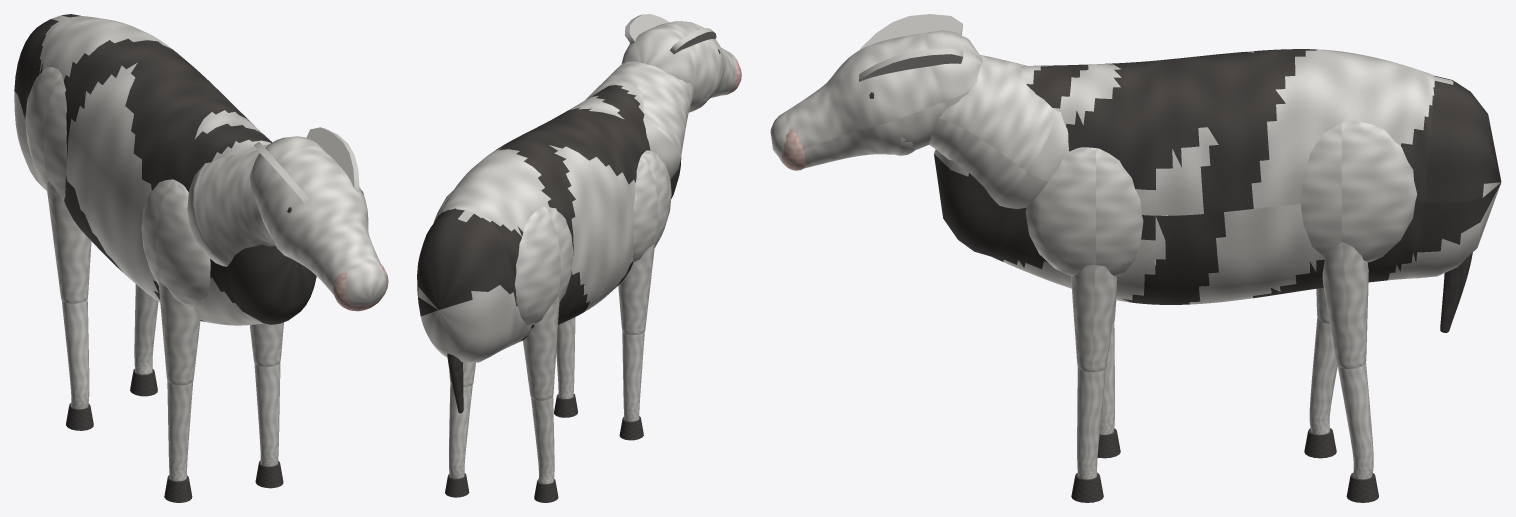
File: farm-and-working-animals-hd-calf-f7b259ab__29187.glb
The picture shows the model from 3 angles, left to right: view 1: azimuth 30°, elevation 25°; view 2: azimuth 150°, elevation 25°; view 3: azimuth 270°, elevation 25°; orthographic projection. The views are drawn at different scales.
Parts seen in each view (by area): view 1: calf; view 2: calf; view 3: calf.
Boxes of the visible parts, x1,y1,x2,y2 form: calf: (14,14,388,502); calf: (417,14,741,502); calf: (770,14,1501,502).
Size of the model in its own units: 0.3347 by 0.9453 by 1.42.
Materials: 3 (3 with a texture image).
